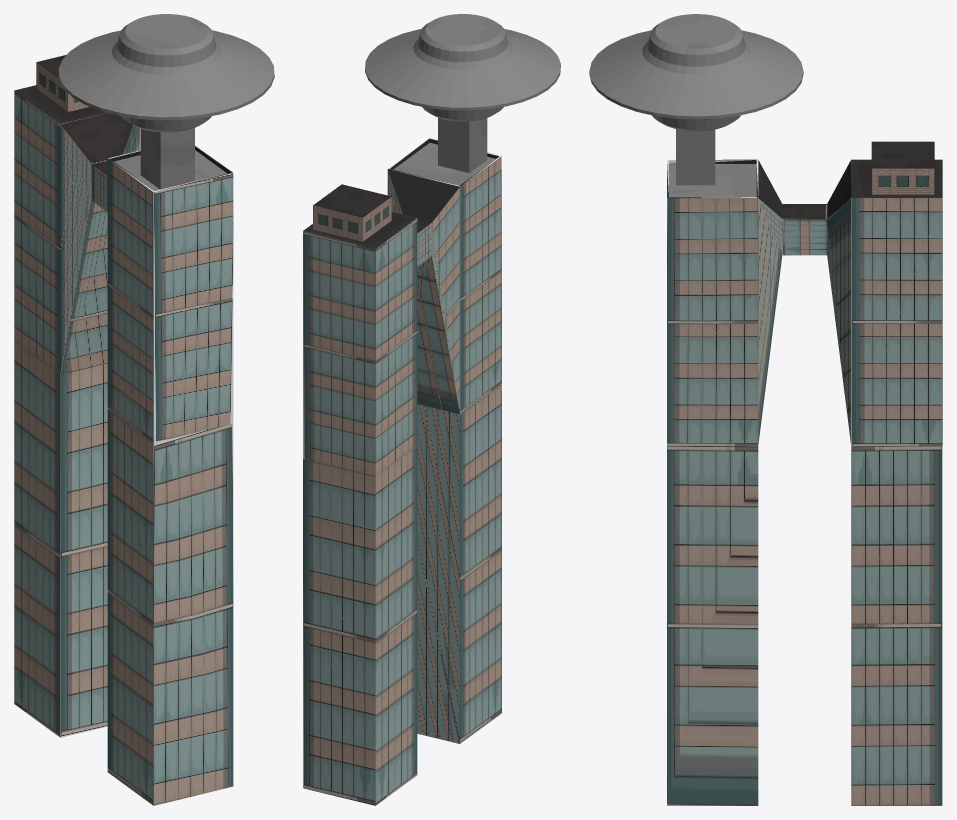
File: building4.glb
3 views of the same model, side by side, from view 1: azimuth 30°, elevation 25°; view 2: azimuth 150°, elevation 25°; view 3: azimuth 270°, elevation 25° (orthographic). The views are drawn at different scales.
Visible parts, largest first — view 1: Cube; view 2: Cube; view 3: Cube.
Part boxes in pixels (box(x1,y1,x2,y2)): Cube: box(14, 14, 274, 805); Cube: box(303, 14, 560, 805); Cube: box(589, 14, 942, 805).
Bounding box in the file's own units: 4.69 × 18.11 × 7.73.
2 materials, 2 textured.
